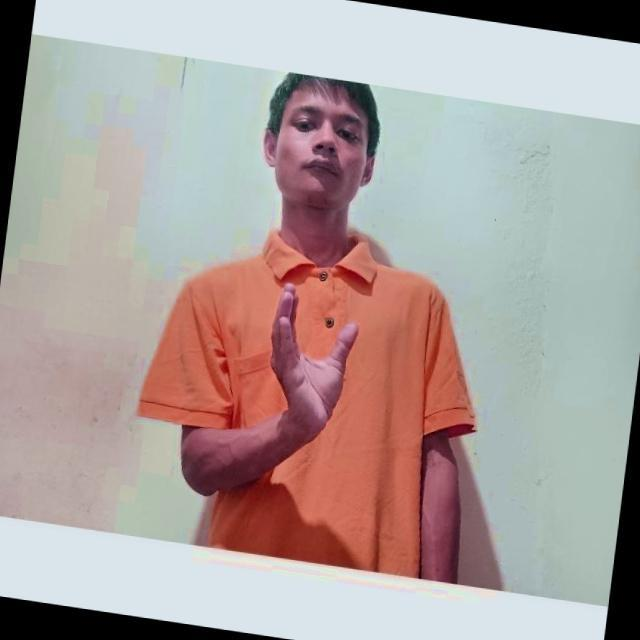U: (268, 277, 366, 414)
